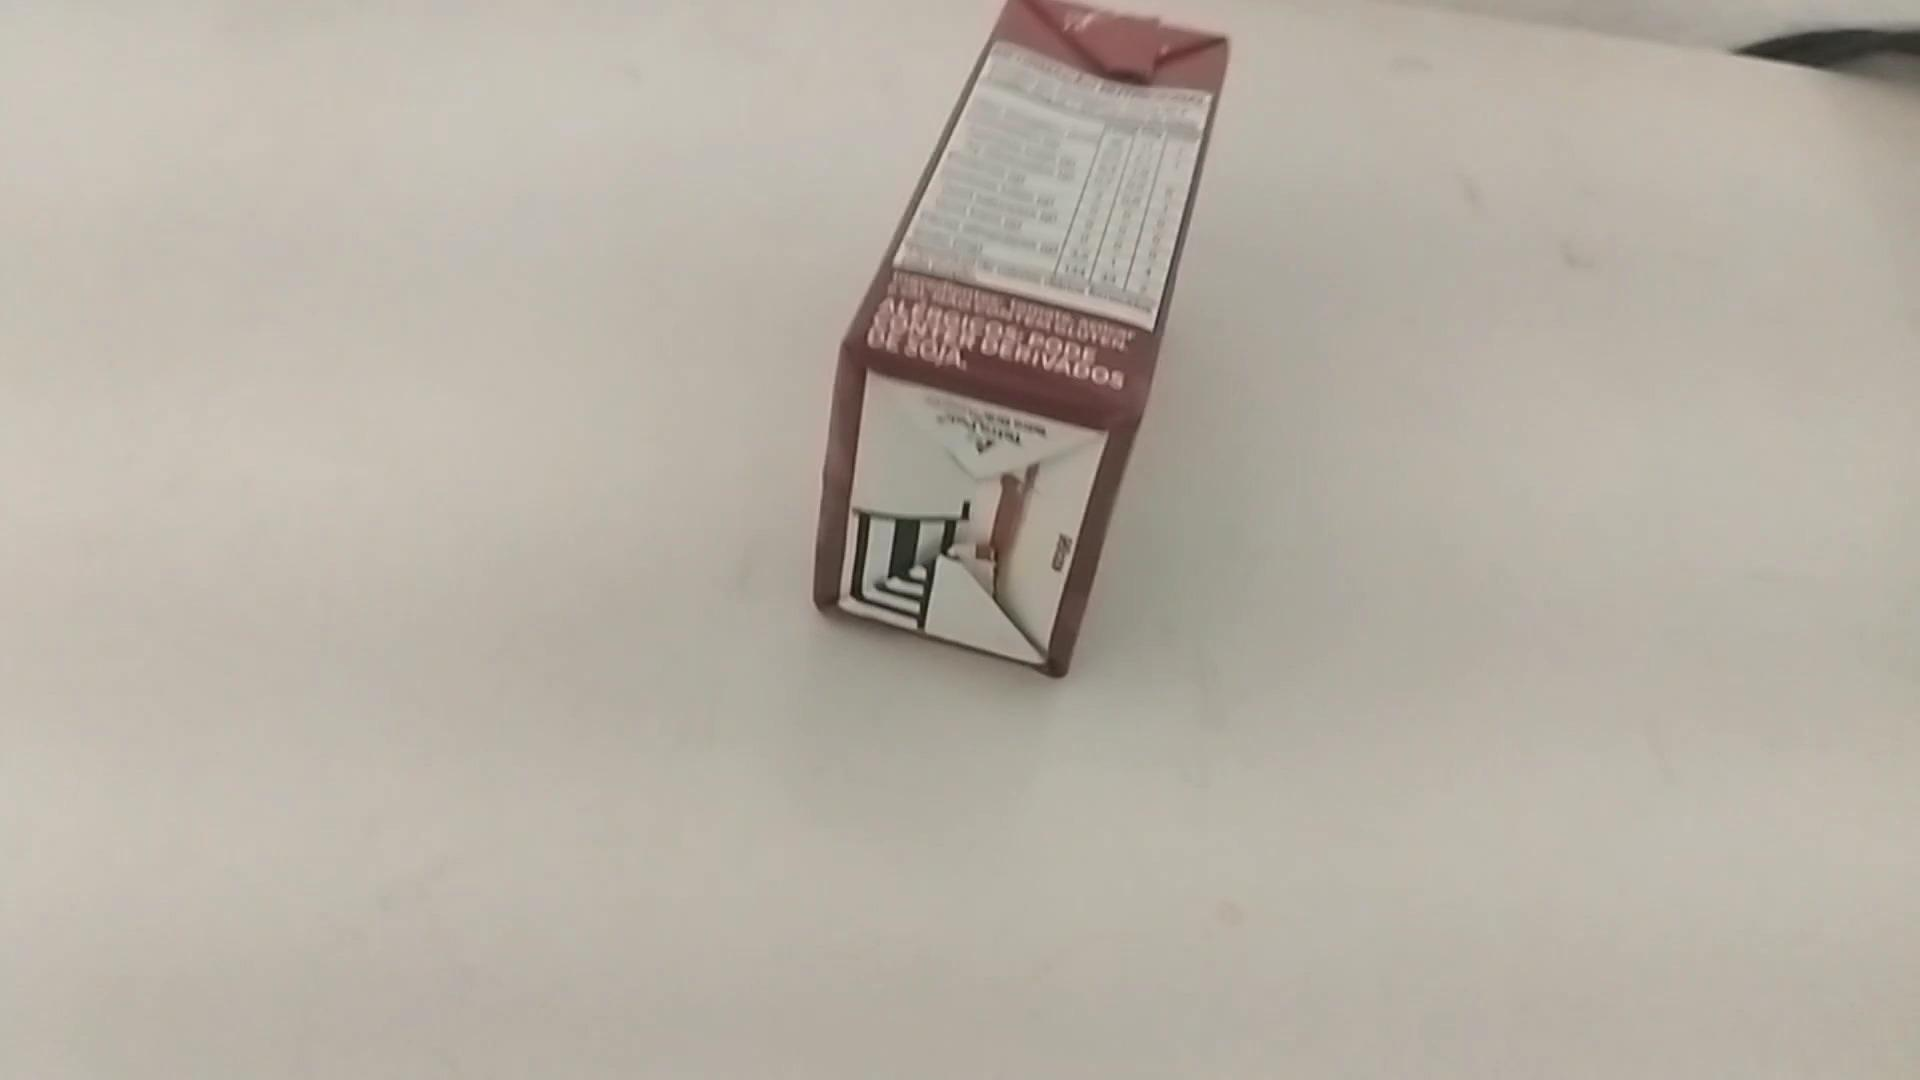tomate: (811, 1, 1230, 687)
